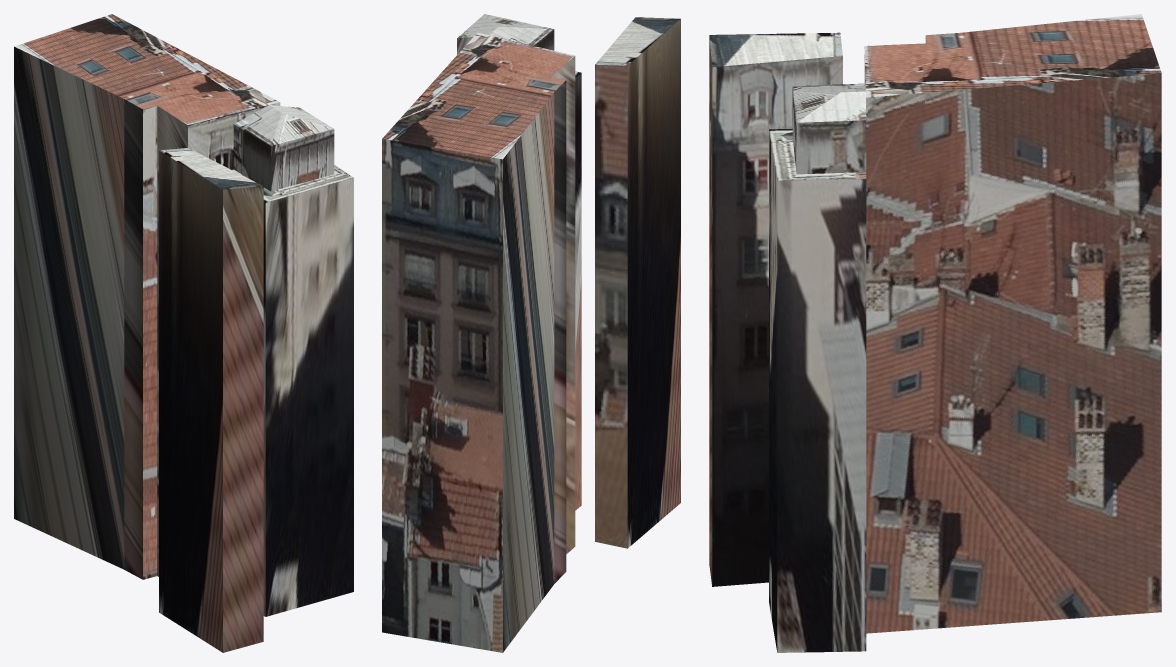
The picture shows the model from 3 angles, left to right: view 1: azimuth 30°, elevation 25°; view 2: azimuth 150°, elevation 25°; view 3: azimuth 270°, elevation 25°; orthographic projection. The views are drawn at different scales.
Parts seen in each view (by area): view 1: Z_UP; view 2: Z_UP; view 3: Z_UP.
Part boxes in pixels (left/top/right/bottom): Z_UP: left=14, top=14, right=353, bottom=652; Z_UP: left=382, top=14, right=680, bottom=652; Z_UP: left=709, top=14, right=1161, bottom=652.
Bounding box in the file's own units: 9.33 × 23.39 × 17.8.
2 materials, 1 textured.
